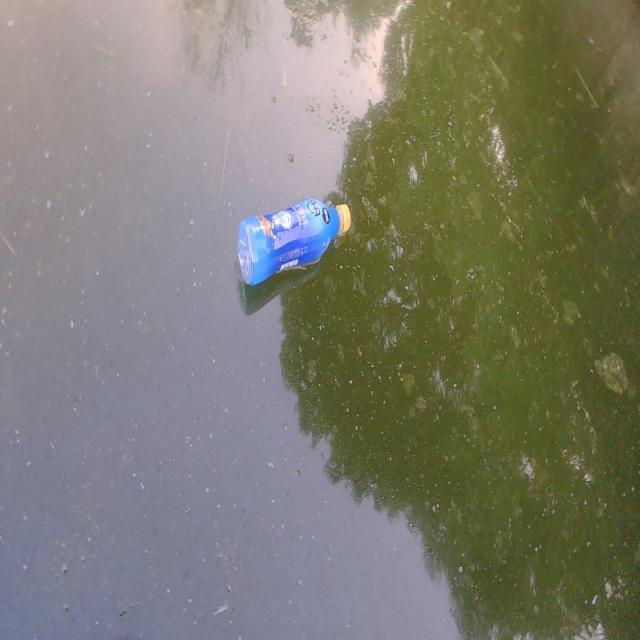garbage: (237, 196, 351, 286)
